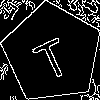T: (27, 28, 74, 83)
